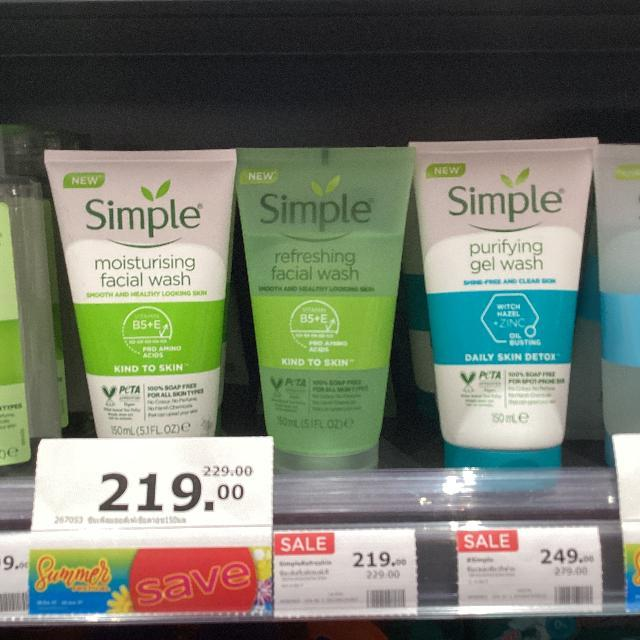Squeeze Tube: (411, 136, 600, 482), (50, 152, 240, 469), (243, 144, 419, 477), (91, 153, 249, 459)
